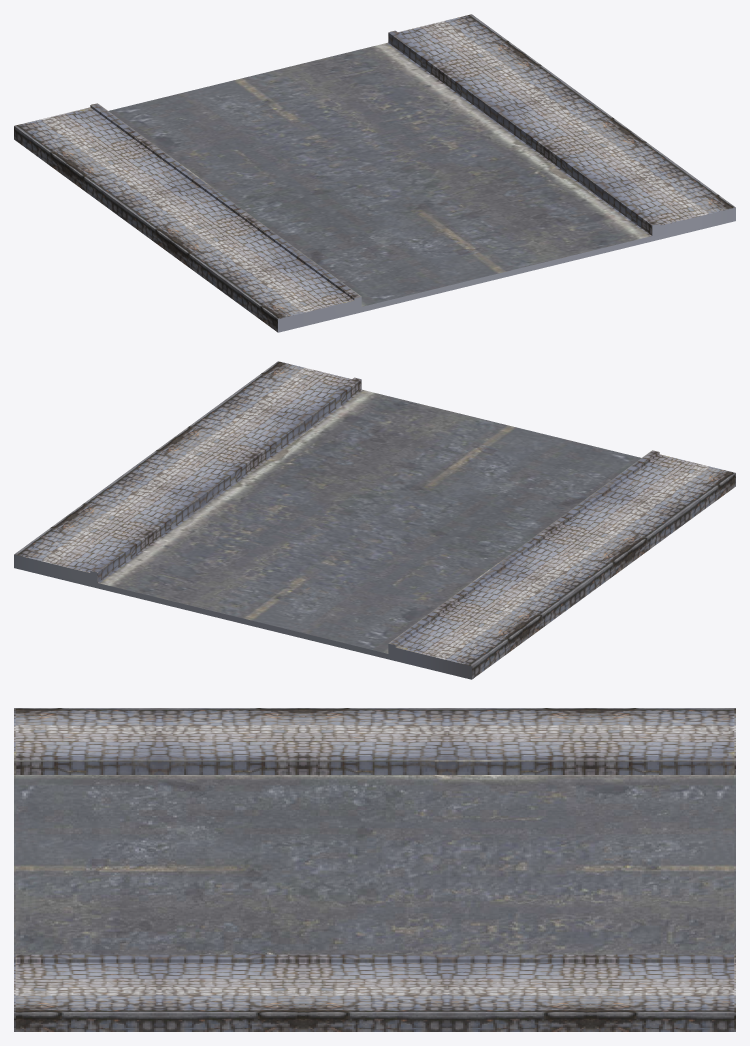
File: low_poly_psx_road.glb
3 renders of one model, top to bottom at view 1: azimuth 30°, elevation 25°; view 2: azimuth 150°, elevation 25°; view 3: azimuth 270°, elevation 25°, orthographic. The views are drawn at different scales.
Visible parts, largest first — view 1: Cube; view 2: Cube; view 3: Cube.
Part boxes in pixels (x1,y1,x2,y2): Cube: (14, 14, 735, 332); Cube: (14, 361, 735, 679); Cube: (14, 708, 735, 1031).
Bounding box in the file's own units: 3 × 0.099 × 3.
Materials: 1 (1 with a texture image).
